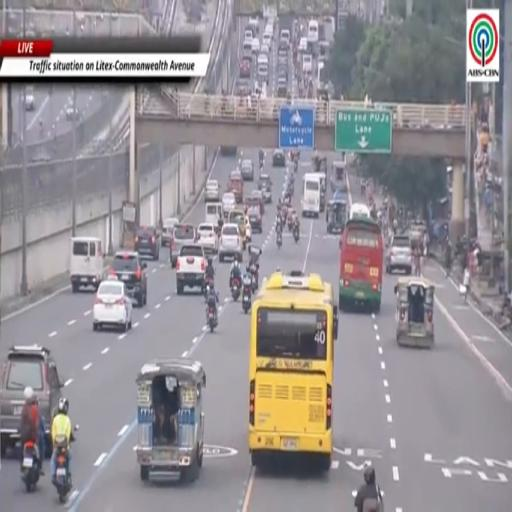bus: (249, 271, 338, 471), (339, 216, 384, 313), (301, 173, 321, 217), (349, 203, 371, 218)
car: (0, 345, 64, 457), (93, 277, 133, 331), (109, 251, 147, 307), (384, 234, 412, 275), (170, 223, 196, 267), (219, 223, 243, 262), (135, 227, 159, 260), (198, 222, 218, 253), (161, 217, 179, 247), (227, 171, 243, 203), (258, 174, 272, 203), (248, 204, 262, 233), (222, 192, 236, 218), (251, 189, 264, 215), (240, 159, 254, 181), (205, 180, 219, 201), (24, 88, 35, 111), (273, 149, 285, 167), (66, 106, 80, 121), (240, 58, 251, 77), (249, 16, 259, 36), (277, 67, 288, 83), (277, 52, 288, 66), (246, 217, 252, 242), (262, 32, 272, 47), (230, 169, 242, 180), (279, 39, 289, 52), (252, 38, 260, 54), (298, 38, 307, 52), (245, 28, 253, 41), (261, 43, 269, 55)
jeepney: (135, 358, 205, 481), (395, 277, 434, 347), (228, 207, 247, 249), (326, 199, 347, 233), (409, 220, 426, 251), (331, 160, 347, 191), (320, 173, 326, 212)
motorcycle: (54, 437, 71, 503), (21, 441, 40, 492), (207, 307, 217, 332), (242, 286, 251, 313), (204, 276, 214, 297), (231, 278, 239, 301), (251, 267, 258, 293), (293, 226, 299, 243), (276, 232, 282, 248), (288, 182, 294, 196), (288, 217, 293, 232), (379, 488, 384, 499), (294, 160, 297, 172)
truck: (176, 244, 206, 295)
